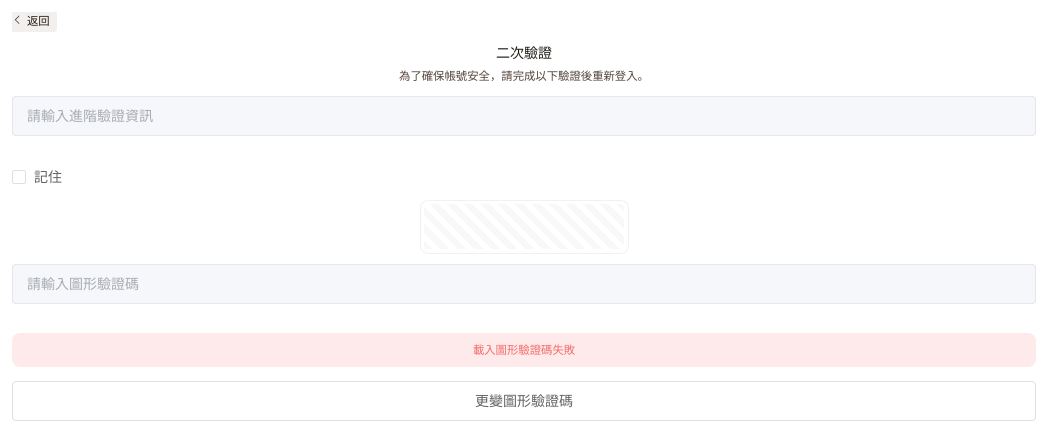
Test case: VerifyPage › Retry on the load-failed banner re-fetches page info and captcha
This screenshot has width=1048, height=438.
What coordinates should you click on to do the following:
click the button with test id "verify-retry"
I would click on:
 (524, 401)
Its box is [12, 381, 1036, 421].
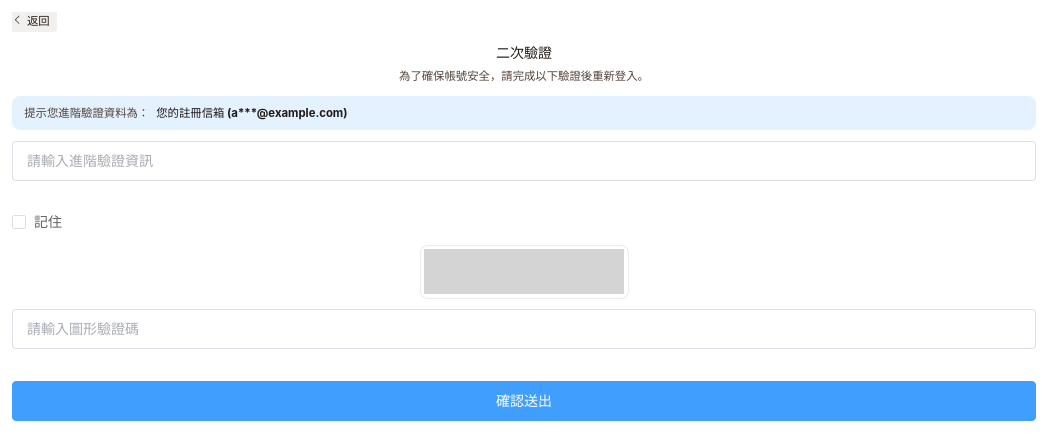
Now the button with test id "verify-submit" is shown, box [12, 381, 1036, 421]
